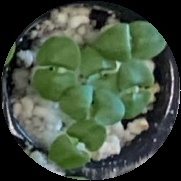Basil: (49, 119, 103, 172), (97, 19, 163, 62), (56, 88, 125, 126), (113, 63, 155, 123), (37, 36, 76, 100), (81, 48, 123, 95)
